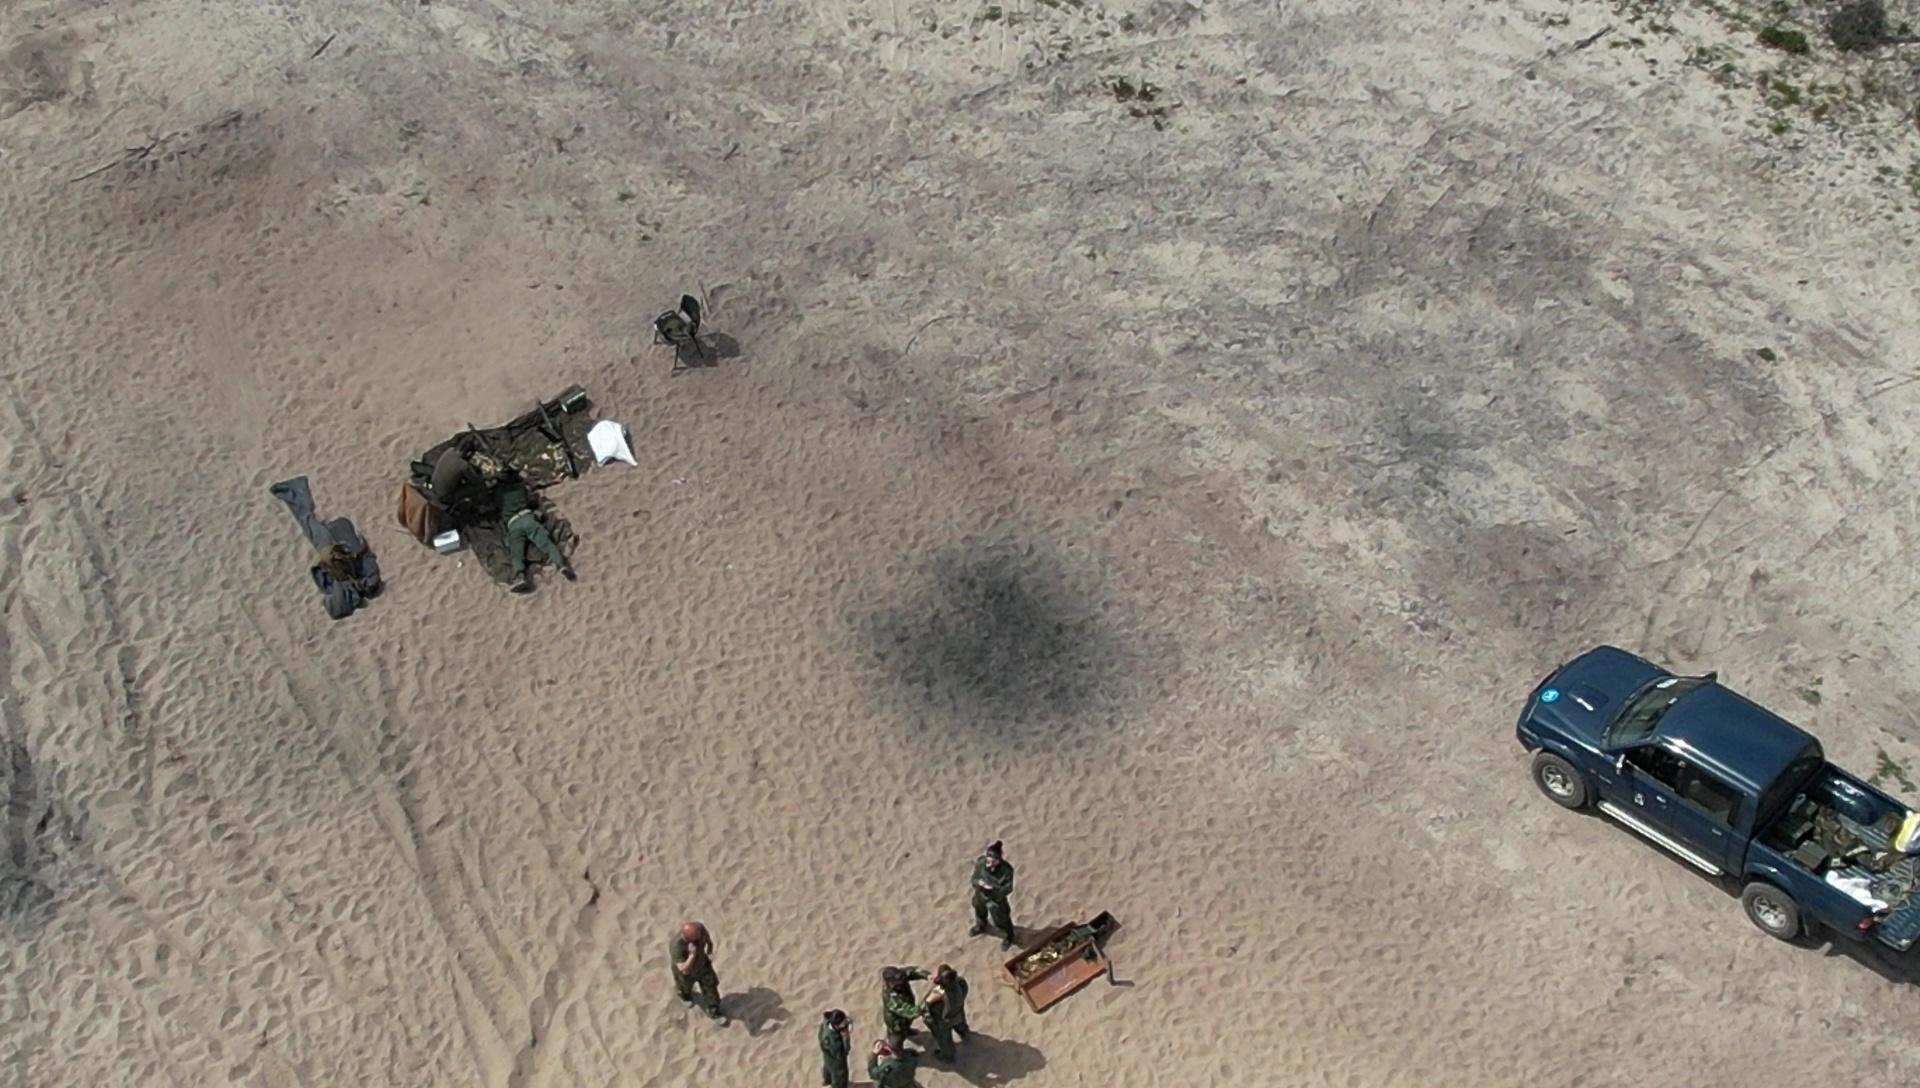Soldier: (465, 463, 578, 601), (417, 440, 512, 535), (960, 837, 1031, 960), (663, 914, 735, 1033), (874, 965, 967, 1052), (916, 973, 986, 1081), (800, 1000, 876, 1088), (873, 1021, 928, 1087)
